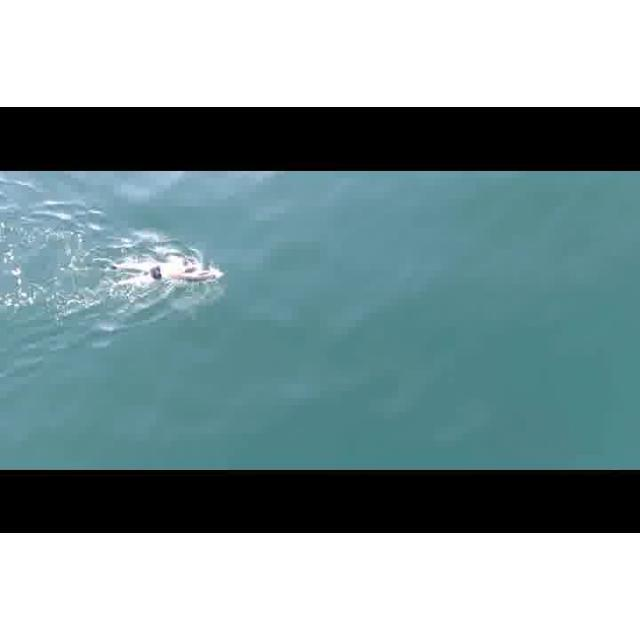human: (107, 254, 219, 281)
